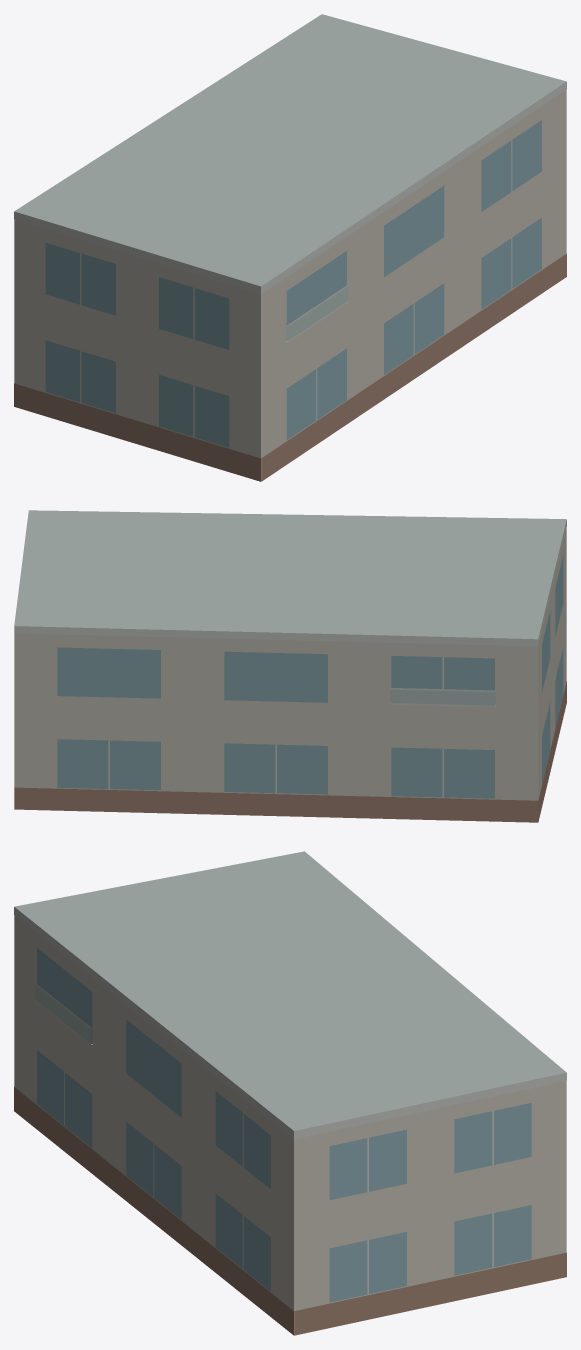
Rendered from survey-upis-32809476.glb.
3 renders of one model, top to bottom at view 1: azimuth 30°, elevation 25°; view 2: azimuth 150°, elevation 25°; view 3: azimuth 270°, elevation 25°, orthographic. The views are drawn at different scales.
Visible parts, largest first — view 1: survey-upis-32809476.tmp; view 2: survey-upis-32809476.tmp; view 3: survey-upis-32809476.tmp.
Part boxes in pixels (x1,y1,x2,y2): survey-upis-32809476.tmp: [14, 14, 566, 481]; survey-upis-32809476.tmp: [14, 510, 566, 822]; survey-upis-32809476.tmp: [14, 851, 566, 1335].
Size of the model in its own units: 17.91 by 6.1 by 14.95.
